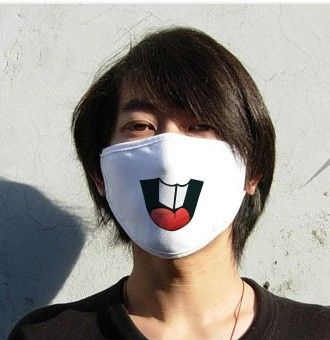face_mask: (104, 65, 241, 256)
